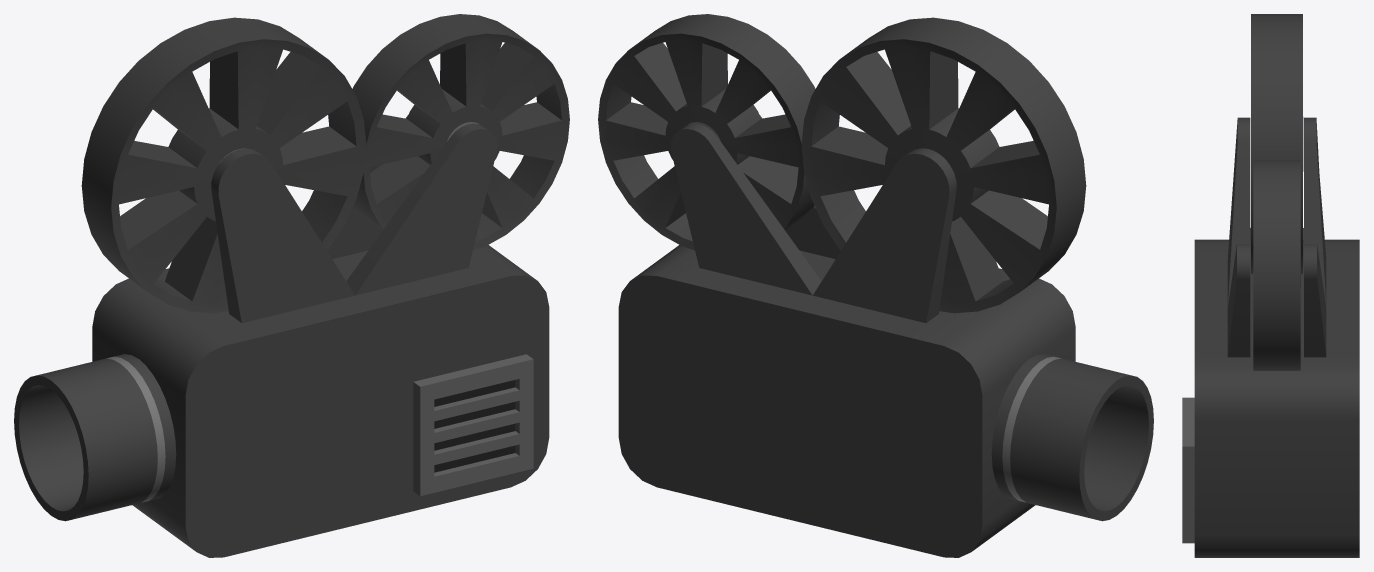
File: film_projector.fbx
3 views of the same model, side by side, from view 1: azimuth 30°, elevation 25°; view 2: azimuth 150°, elevation 25°; view 3: azimuth 270°, elevation 25° (orthographic). The views are drawn at different scales.
Parts seen in each view (by area): view 1: Cube.937; view 2: Cube.937; view 3: Cube.937.
Boxes of the visible parts, <box> form: Cube.937: <box>14,14,569,557</box>; Cube.937: <box>598,14,1153,557</box>; Cube.937: <box>1182,14,1359,557</box>.
Bounding box in the file's own units: 225 × 205 × 77.31.
Materials: 1 (1 with a texture image).
